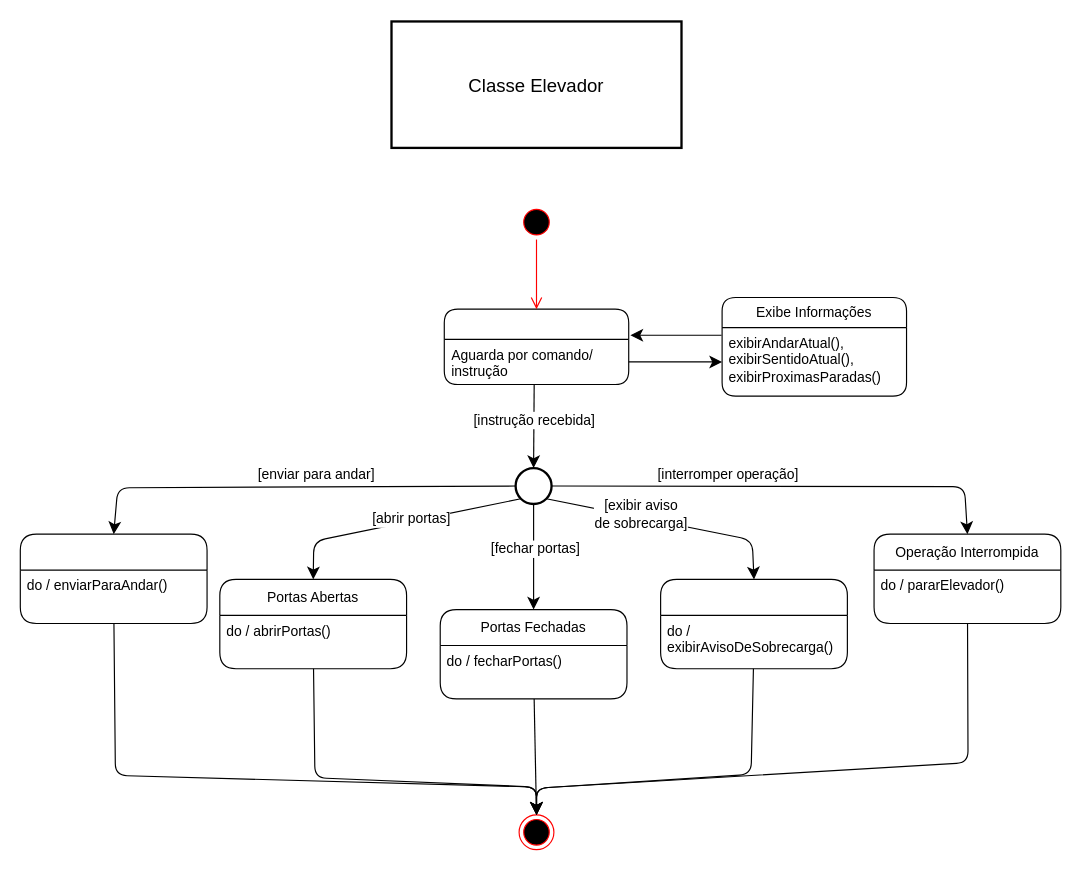
This 1081x870 diagram has some shape labels left out. Each missing label, with the box of its shape:
Aguardando Instrução: (443, 308, 629, 385)
Exibindo Aviso de Sobrecarga: (659, 578, 847, 669)
Indo para andar solicitado: (19, 533, 207, 624)
